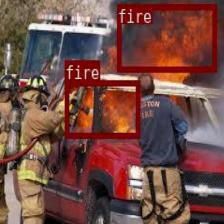fire: (117, 3, 215, 71), (65, 80, 139, 136)
